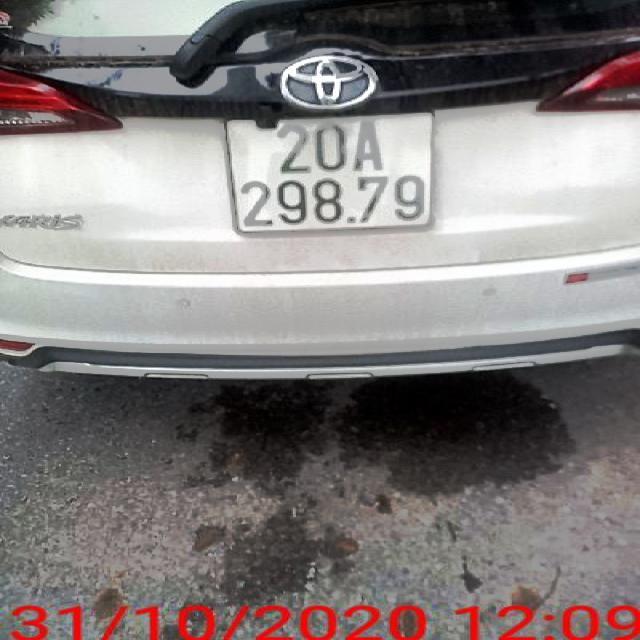license_plate: (220, 114, 439, 233)
